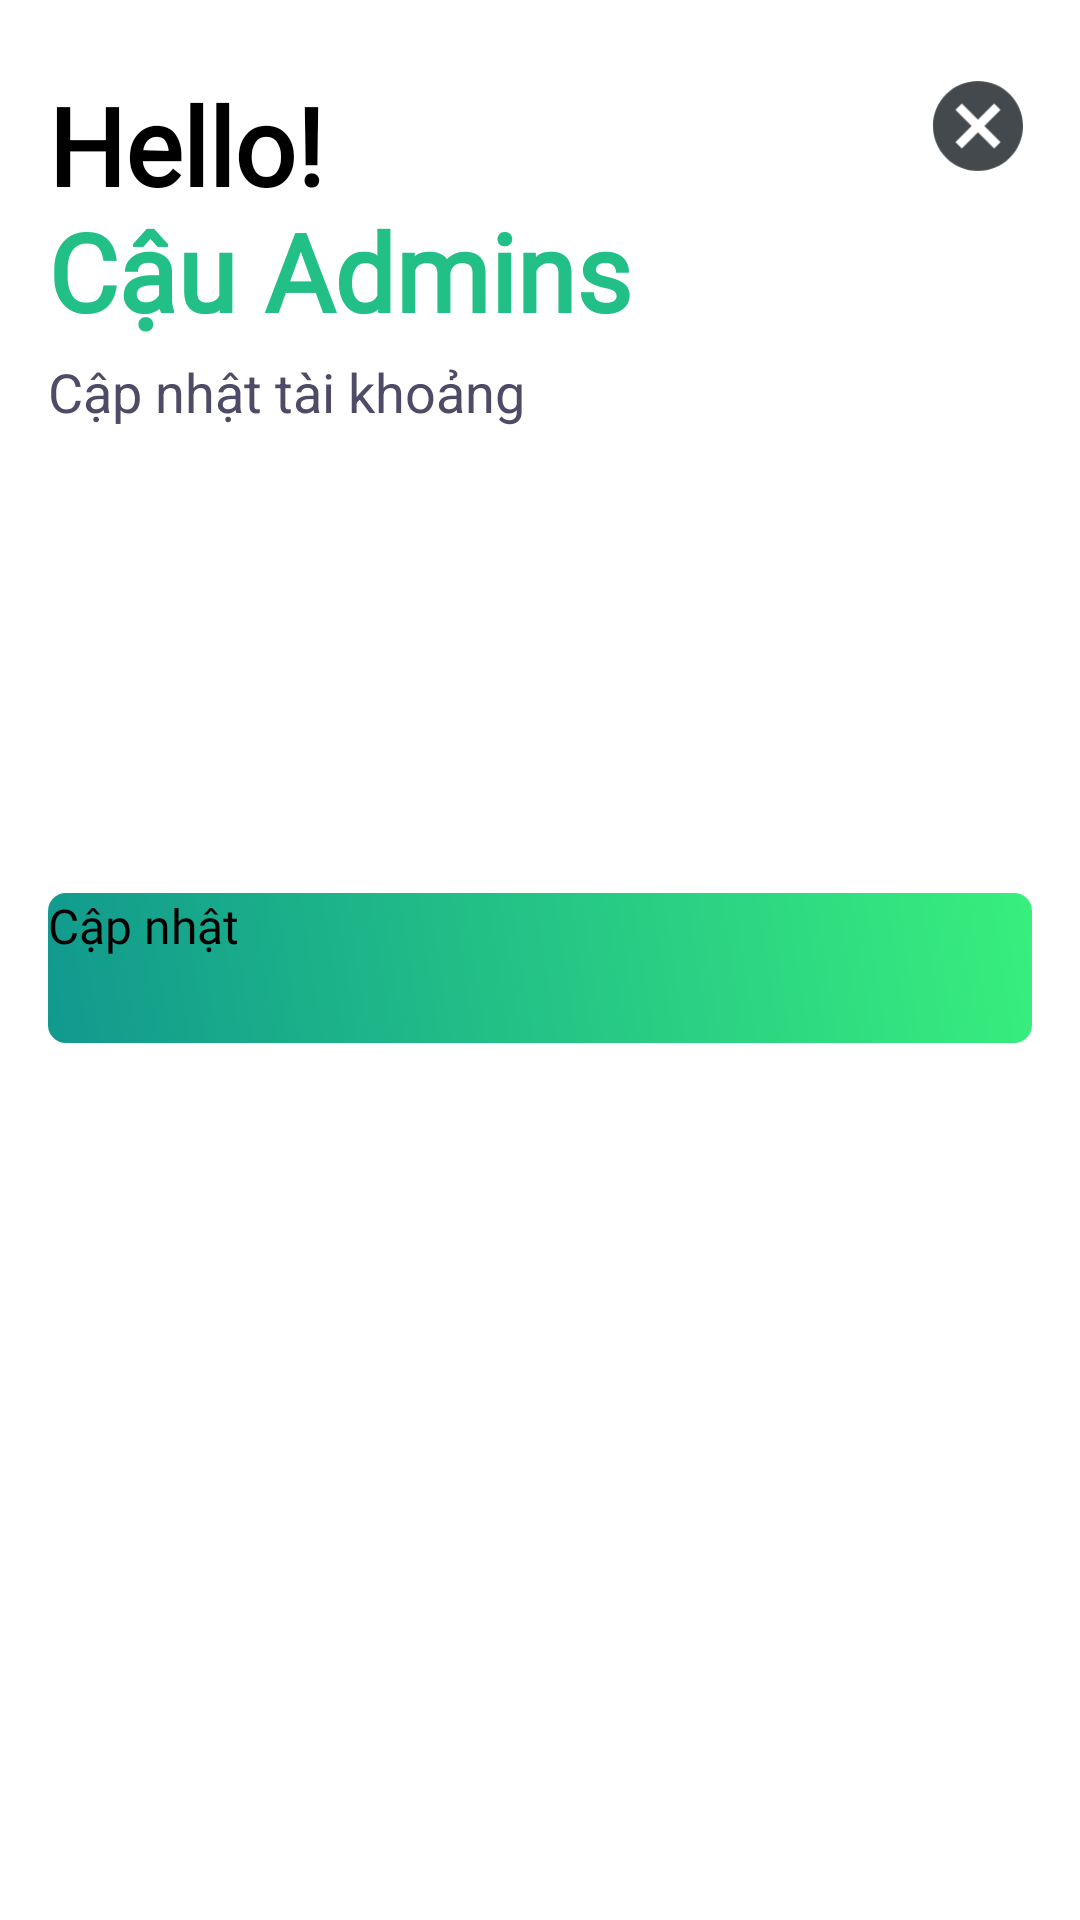

Icon click points for this 1080px x 1920px phone screenshot, format point (x, y):
cancel: point (978, 126)
